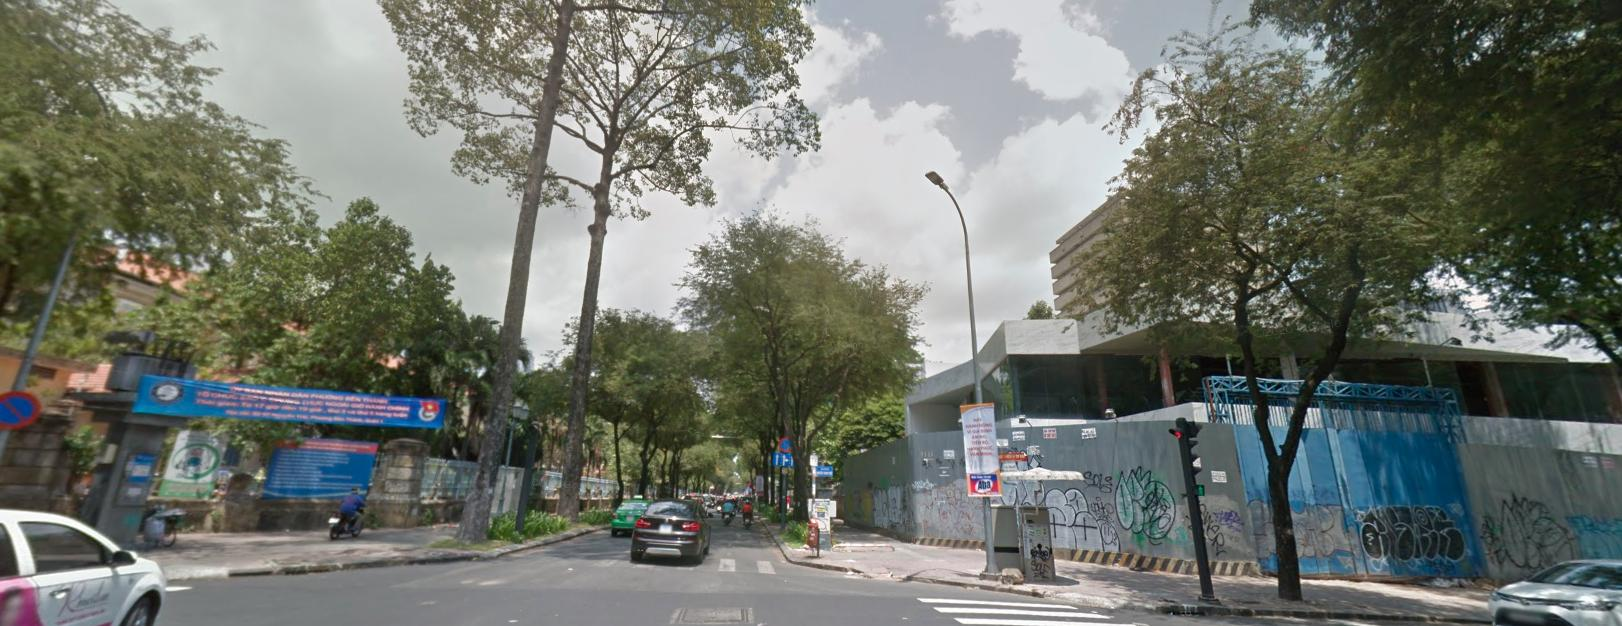Cam dung va do: (778, 435, 795, 453)
